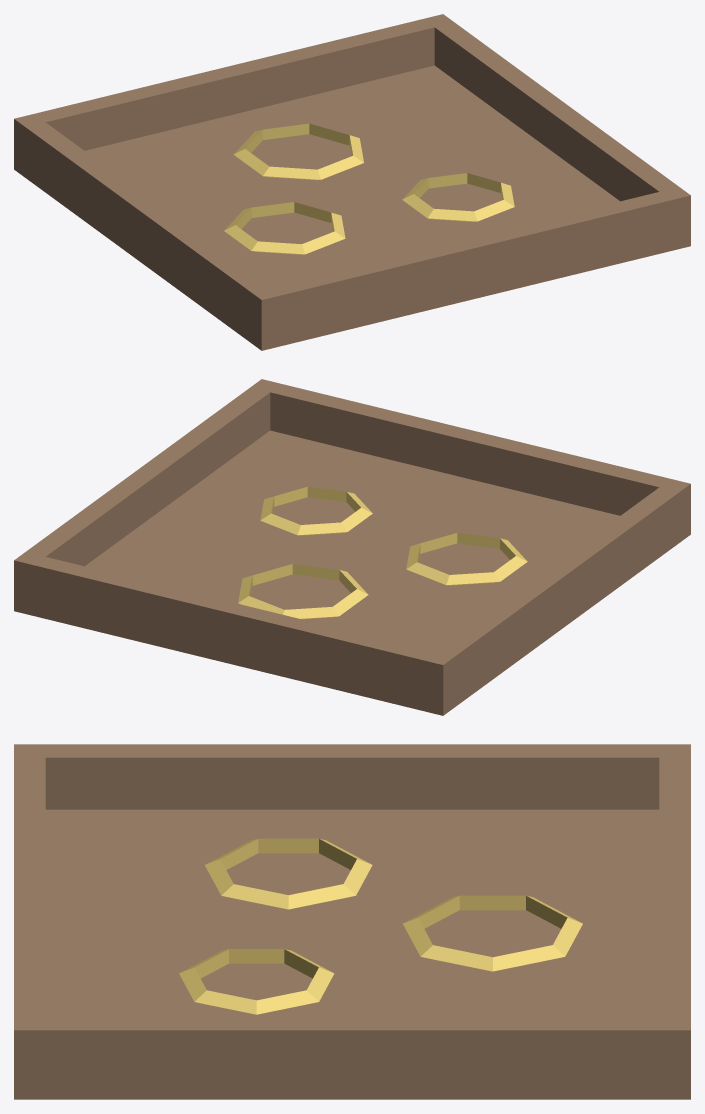
File: prop-ring-blank-tray.fbx
3 views of the same model, one above another, from view 1: azimuth 30°, elevation 25°; view 2: azimuth 150°, elevation 25°; view 3: azimuth 270°, elevation 25° (orthographic). The views are drawn at different scales.
Visible parts, largest first — view 1: prop-ring-blank-tray; view 2: prop-ring-blank-tray; view 3: prop-ring-blank-tray.
Part boxes in pixels (box(x1,y1,x2,y2)): prop-ring-blank-tray: box(14, 14, 690, 350); prop-ring-blank-tray: box(14, 379, 690, 715); prop-ring-blank-tray: box(14, 744, 690, 1099).
Size of the model in its own units: 10.61 by 1.2 by 10.61.
